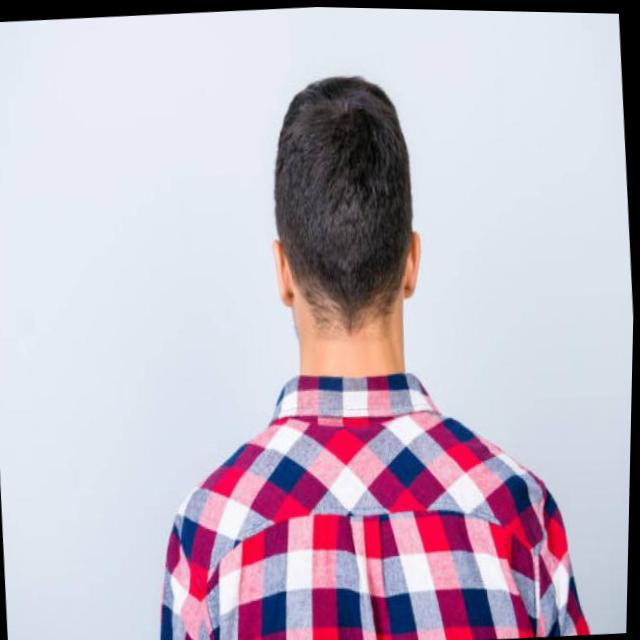no helmet: (251, 48, 440, 394)
